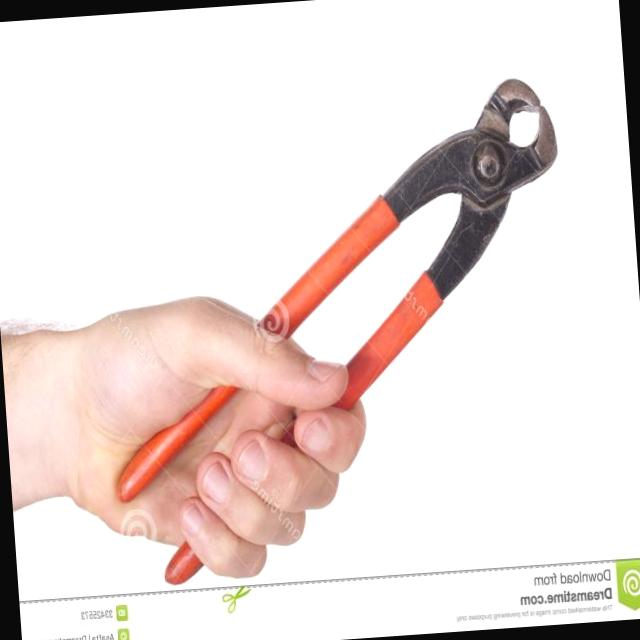pliers: (258, 80, 555, 408), (118, 385, 235, 501)
